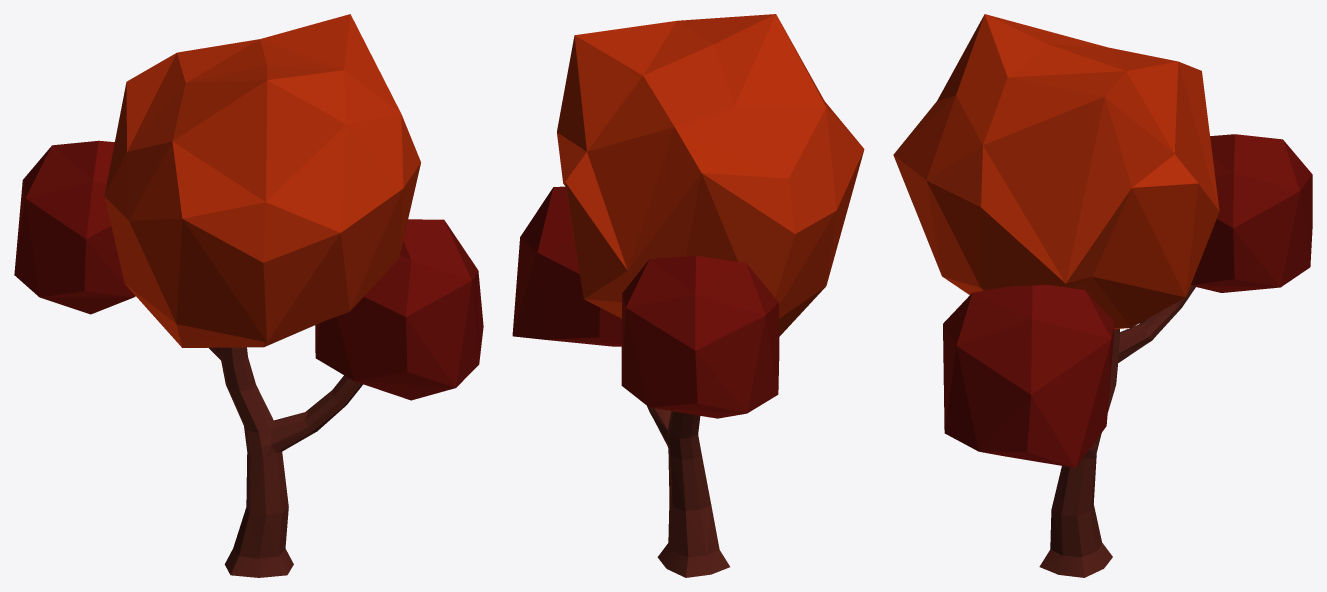
File: tree_6.FBX
3 renders of one model, left to right at view 1: azimuth 30°, elevation 25°; view 2: azimuth 150°, elevation 25°; view 3: azimuth 270°, elevation 25°, orthographic.
Parts seen in each view (by area): view 1: GeoSphere177, GeoSphere179, GeoSphere178, Box1513; view 2: GeoSphere177, GeoSphere178, GeoSphere179, Box1513; view 3: GeoSphere177, GeoSphere179, GeoSphere178, Box1513.
Part boxes in pixels (x1=…): GeoSphere177: x1=104, y1=14, x2=420, y2=347; GeoSphere179: x1=315, y1=219, x2=483, y2=400; GeoSphere178: x1=14, y1=140, x2=135, y2=314; Box1513: x1=208, y1=347, x2=362, y2=577; GeoSphere177: x1=557, y1=14, x2=864, y2=336; GeoSphere178: x1=621, y1=255, x2=779, y2=418; GeoSphere179: x1=512, y1=186, x2=621, y2=346; Box1513: x1=647, y1=406, x2=729, y2=577; GeoSphere177: x1=893, y1=14, x2=1219, y2=329; GeoSphere179: x1=943, y1=284, x2=1114, y2=467; GeoSphere178: x1=1190, y1=134, x2=1312, y2=292; Box1513: x1=1039, y1=285, x2=1196, y2=577.
Size of the model in its own units: 11.12 by 15.86 by 11.38.
